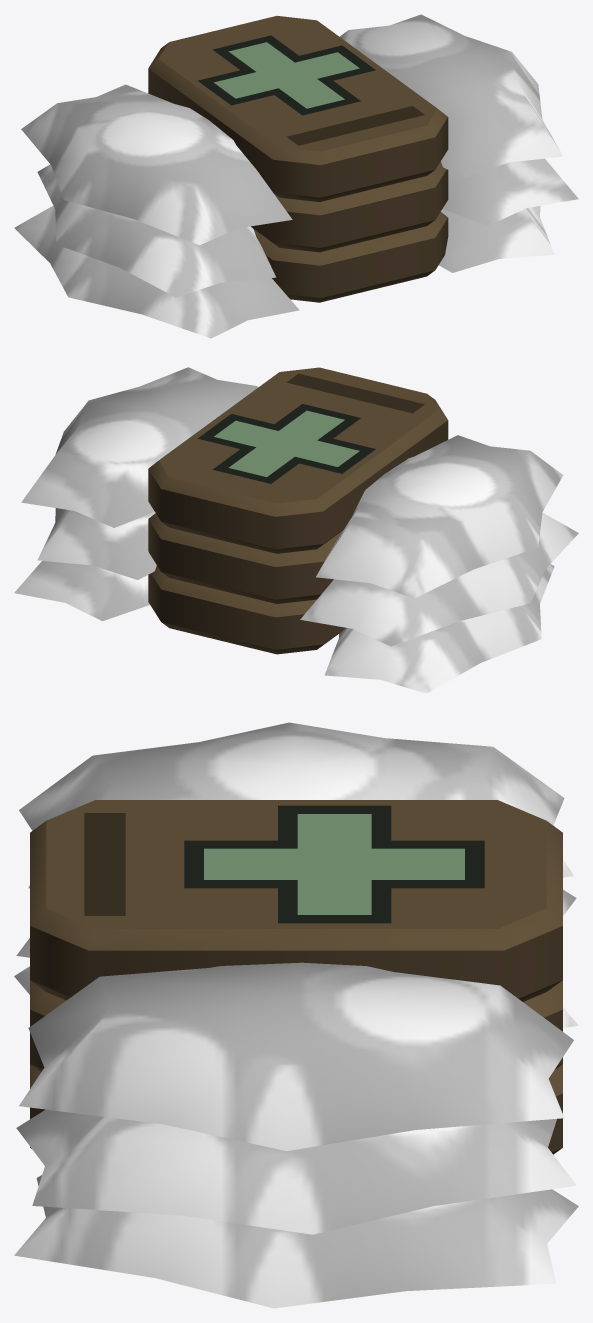
Rendered from item_medicine_herbal_c.obj.
3 views of the same model, one above another, from view 1: azimuth 30°, elevation 25°; view 2: azimuth 150°, elevation 25°; view 3: azimuth 270°, elevation 25° (orthographic). The views are drawn at different scales.
Visible parts, largest first — view 1: bundle_band_02, leaf_05, leaf_08, leaf_07, leaf_03, bundle_band_00, bundle_band_01, leaf_04, leaf_06; view 2: bundle_band_02, leaf_05, leaf_08, leaf_07, leaf_03, bundle_band_01, bundle_band_00, leaf_04, leaf_06; view 3: bundle_band_02, leaf_08, leaf_04, leaf_06, leaf_05, bundle_band_01, bundle_band_00.
Part boxes in pixels (bbox=[...]): bundle_band_02: bbox=[148, 16, 448, 201]; leaf_05: bbox=[21, 84, 292, 245]; leaf_08: bbox=[340, 14, 562, 177]; leaf_07: bbox=[37, 164, 276, 297]; leaf_03: bbox=[14, 206, 299, 338]; bundle_band_00: bbox=[253, 212, 448, 302]; bundle_band_01: bbox=[251, 161, 448, 252]; leaf_04: bbox=[442, 158, 578, 225]; leaf_06: bbox=[439, 206, 554, 272]; bundle_band_02: bbox=[148, 367, 448, 553]; leaf_05: bbox=[316, 435, 563, 598]; leaf_08: bbox=[21, 367, 258, 527]; leaf_07: bbox=[300, 512, 578, 646]; leaf_03: bbox=[324, 564, 554, 693]; bundle_band_01: bbox=[148, 513, 340, 603]; bundle_band_00: bbox=[148, 565, 345, 654]; leaf_04: bbox=[37, 508, 156, 579]; leaf_06: bbox=[14, 561, 149, 621]; bundle_band_02: bbox=[30, 800, 562, 1001]; leaf_08: bbox=[19, 962, 573, 1150]; leaf_04: bbox=[16, 1109, 576, 1234]; leaf_06: bbox=[14, 1175, 578, 1308]; leaf_05: bbox=[19, 722, 573, 888]; bundle_band_01: bbox=[30, 980, 562, 1071]; bundle_band_00: bbox=[30, 1064, 562, 1154].
Size of the model in its own units: 0.8984 by 0.2729 by 0.5556.
